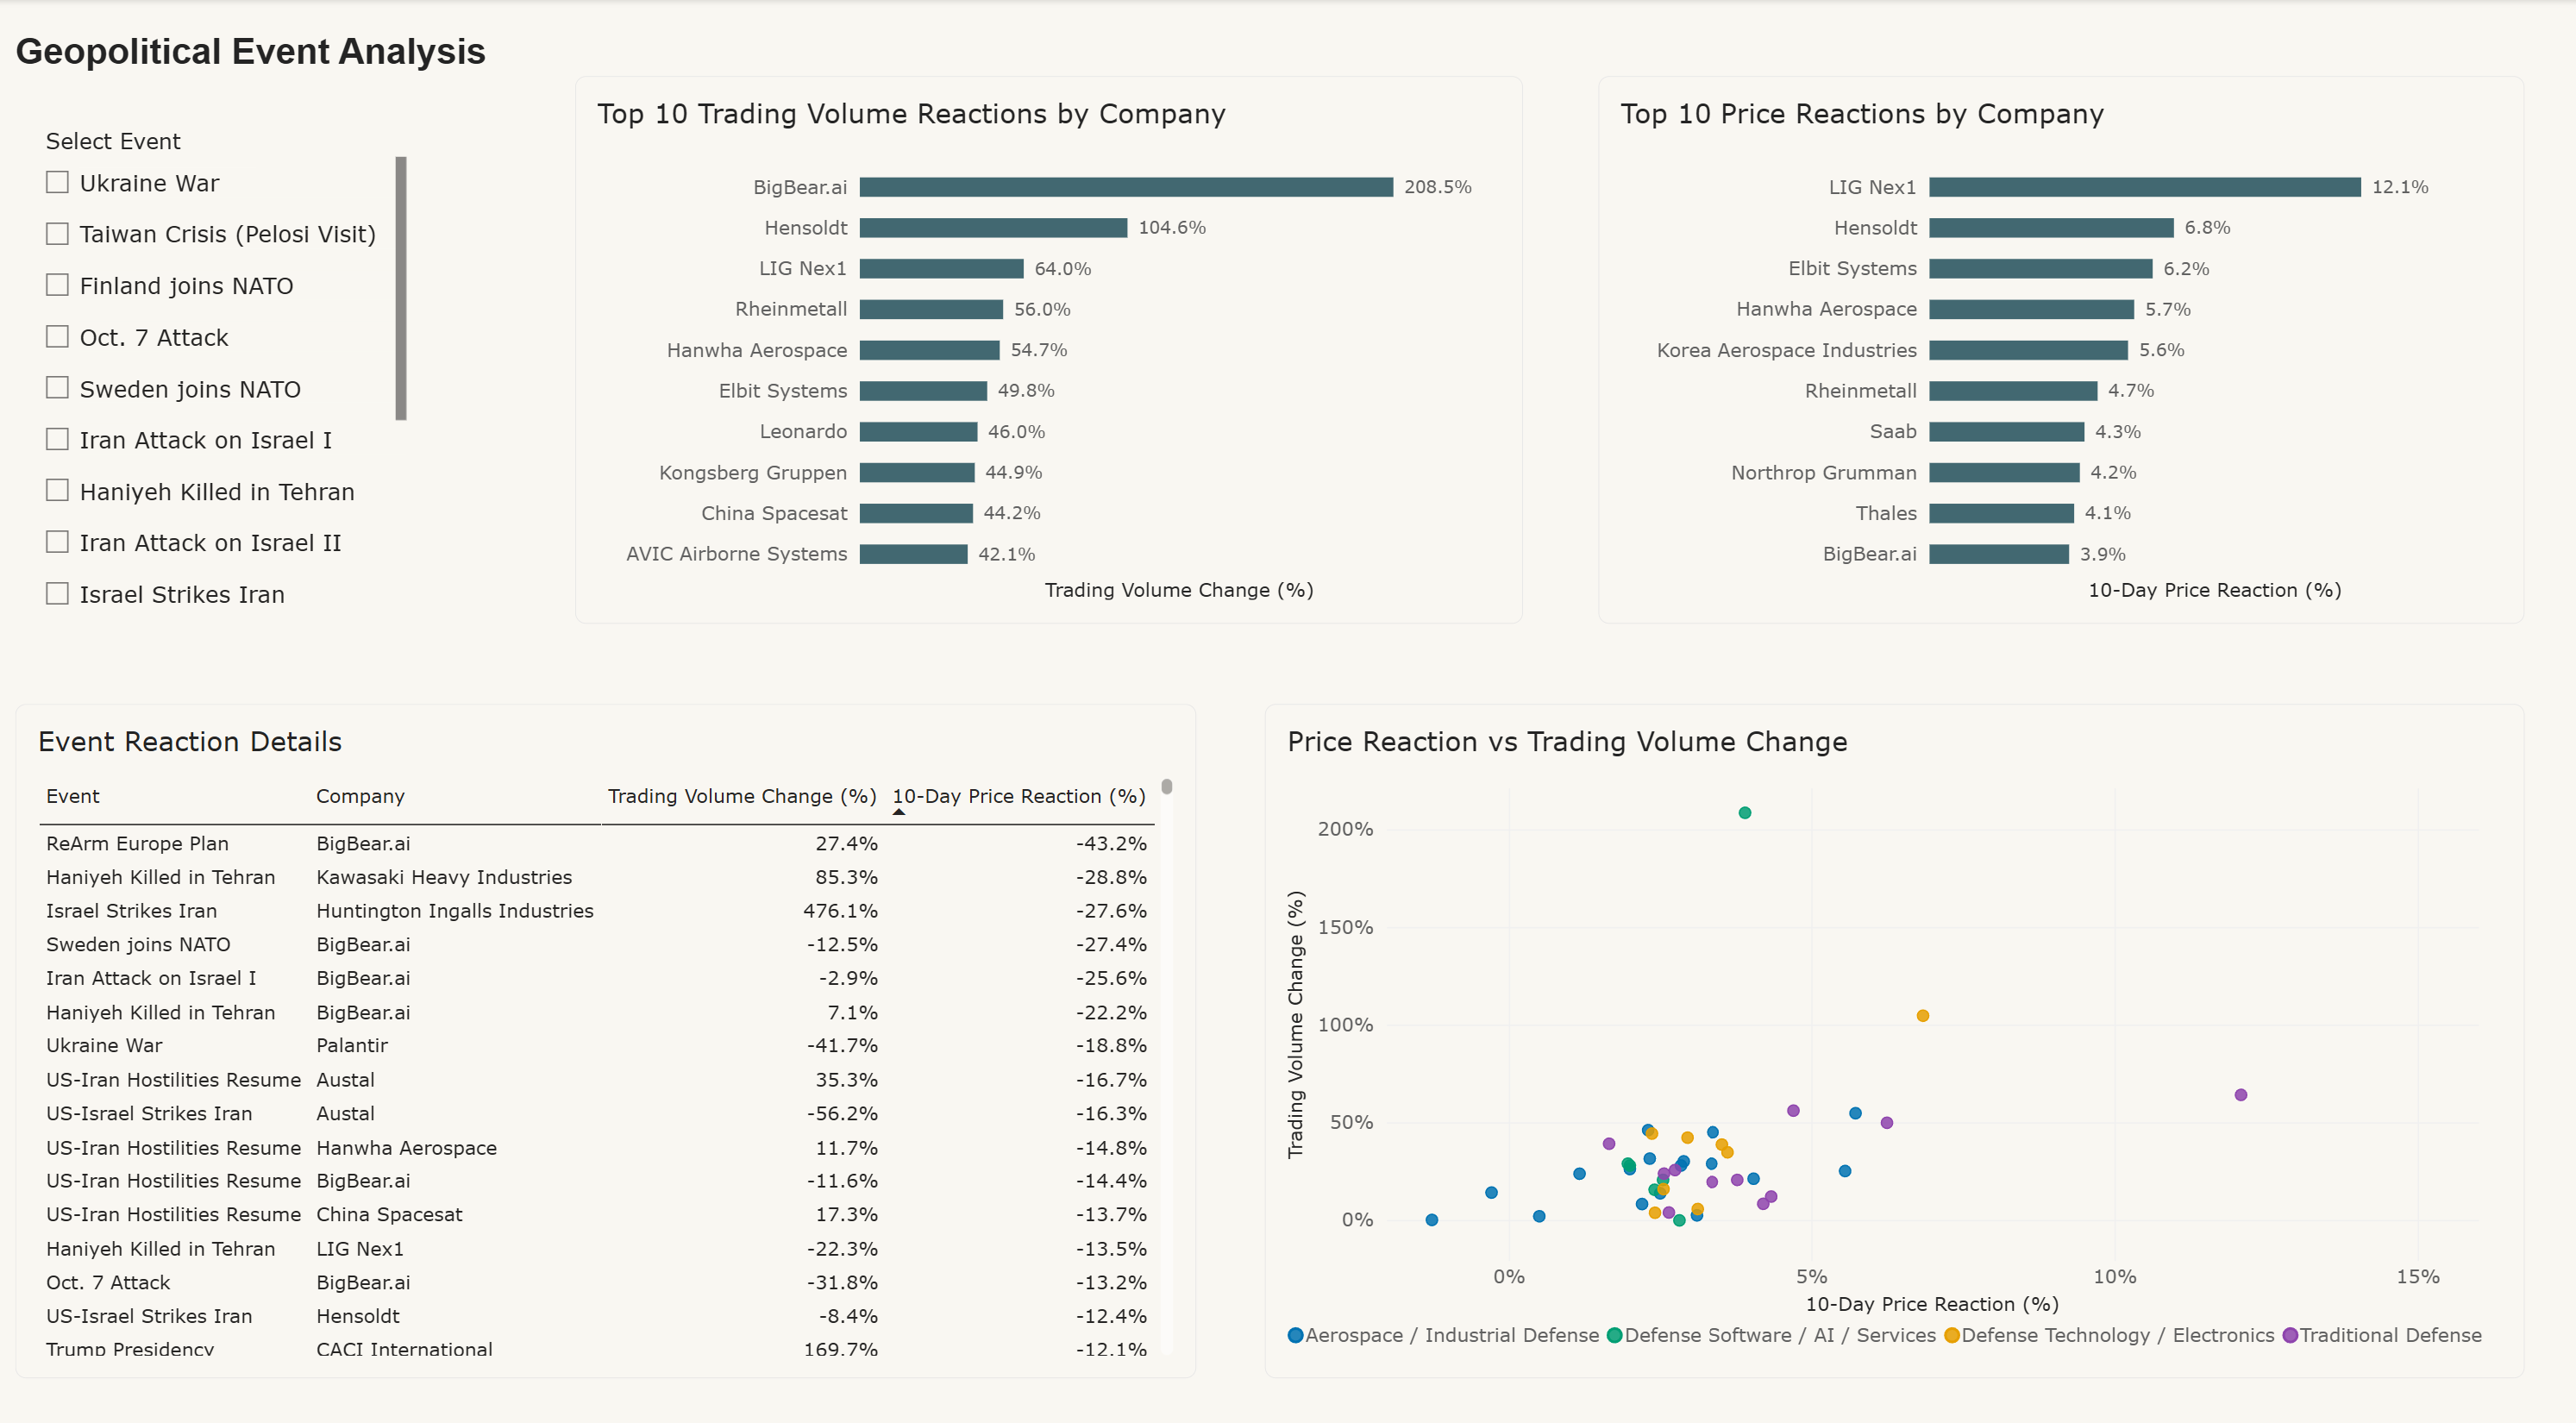

The dashboard page shown, as its layout file describes it:
{"tool":"powerbi","page":{"name":"Geopolitical Event Analysis","canvas":[1920,1080],"ordinal":1},"visuals":[{"type":"clusteredBarChart","title":"Top 10 Price Reactions by Company","fields":{"Category":["company_metadata.Company"],"Y":["Avg(event_reactions_powerbi.Reaction_10D_%)"]},"box":[1185.9,56.6,685.7,404.9],"z":1},{"type":"barChart","title":"Top 10 Trading Volume Reactions by Company","fields":{"Category":["company_metadata.Company"],"Y":["Avg(event_reactions_powerbi.Volume_Change_%)"]},"box":[429,56.6,701.4,404.9],"z":2},{"type":"scatterChart","title":"Price Reaction vs Trading Volume Change","fields":{"Category":["company_metadata.Company"],"Series":["company_metadata.Analysis_Group"],"X":["Avg(event_reactions_powerbi.Reaction_10D_%)"],"Y":["Avg(event_reactions_powerbi.Volume_Change_%)"]},"box":[938.8,521.8,932.8,498.9],"z":3},{"type":"tableEx","title":"Event Reaction Details","fields":{"Values":["event_reactions_powerbi.Event","company_metadata.Company","event_reactions_powerbi.Volume_Change_%","event_reactions_powerbi.Reaction_10D_%"]},"box":[14.5,521.4,873.7,498.9],"z":4},{"type":"slicer","fields":{"Values":["event_reactions_powerbi.Event"]},"box":[28.9,95.2,274.8,366.4],"z":5},{"type":"textbox","box":[14.5,22.9,435.1,45.8],"z":6}]}

Visuals, with their boxes in screenshot pixels (x1, y1, x2, y2), scaled from the page's 1920x1080 canvas onto the 2576x1423 screenshot:
"Top 10 Price Reactions by Company" clusteredBarChart: (x1=1591, y1=74, x2=2511, y2=608)
"Top 10 Trading Volume Reactions by Company" barChart: (x1=575, y1=74, x2=1517, y2=608)
"Price Reaction vs Trading Volume Change" scatterChart: (x1=1260, y1=687, x2=2511, y2=1345)
"Event Reaction Details" tableEx: (x1=20, y1=687, x2=1192, y2=1345)
slicer - event_reactions_powerbi.Event: (x1=39, y1=125, x2=407, y2=608)
textbox: (x1=20, y1=30, x2=603, y2=91)
